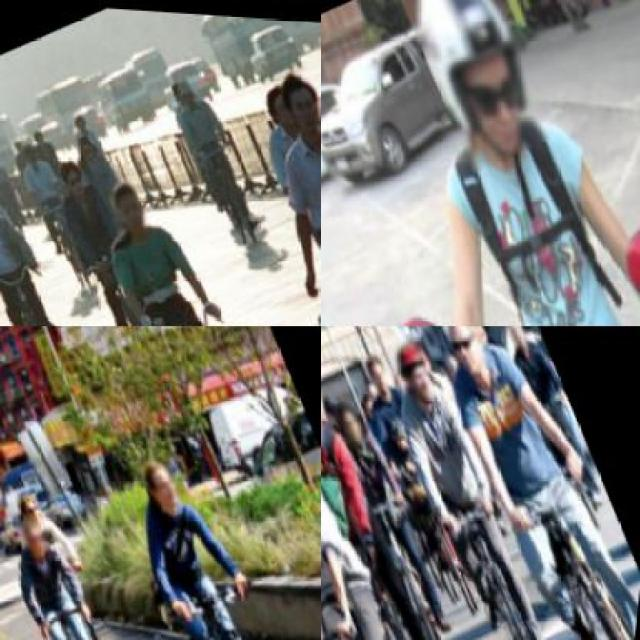With Helmet: (379, 326, 446, 405)
Without Helmet: (381, 0, 578, 175), (266, 54, 319, 143), (136, 442, 198, 511), (100, 170, 162, 238), (428, 326, 504, 380), (328, 390, 378, 448), (357, 345, 405, 403), (16, 508, 62, 557), (58, 151, 98, 198), (320, 371, 342, 452), (498, 326, 540, 352), (20, 135, 49, 171), (174, 69, 203, 103)
